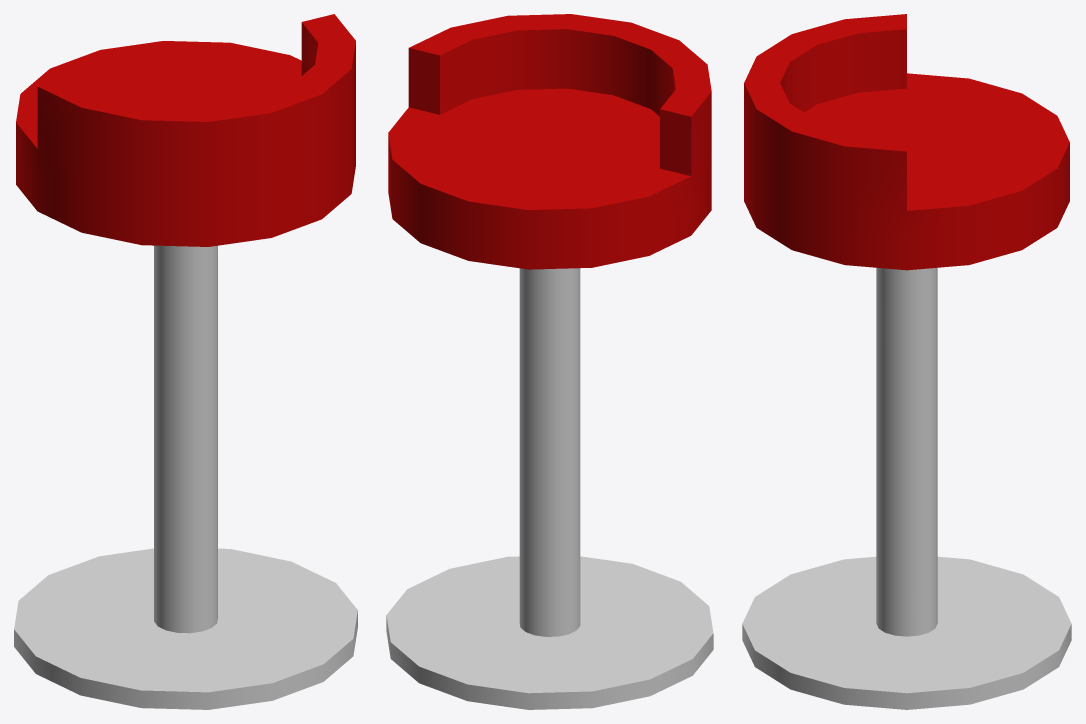
Rendered from Prop_KitchenChair_01.fbx.
The picture shows the model from 3 angles, left to right: view 1: azimuth 30°, elevation 25°; view 2: azimuth 150°, elevation 25°; view 3: azimuth 270°, elevation 25°; orthographic projection. The views are drawn at different scales.
Parts seen in each view (by area): view 1: Prop_KitchenChair_01; view 2: Prop_KitchenChair_01; view 3: Prop_KitchenChair_01.
Boxes of the visible parts, bbox=[...] form: Prop_KitchenChair_01: bbox=[14, 14, 357, 709]; Prop_KitchenChair_01: bbox=[386, 14, 713, 709]; Prop_KitchenChair_01: bbox=[742, 14, 1071, 709].
Size of the model in its own units: 46.31 by 86.54 by 46.31.
